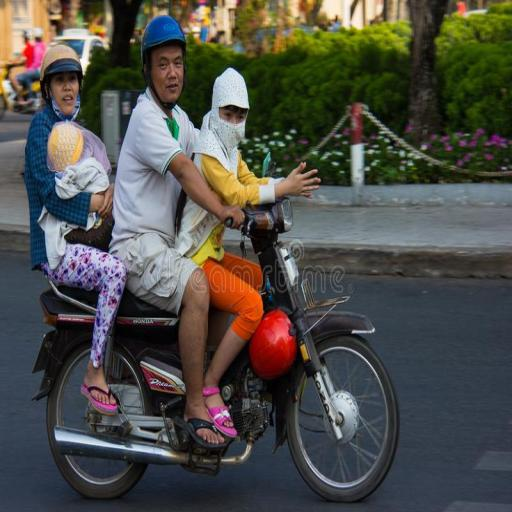overloading: (30, 190, 400, 504)
